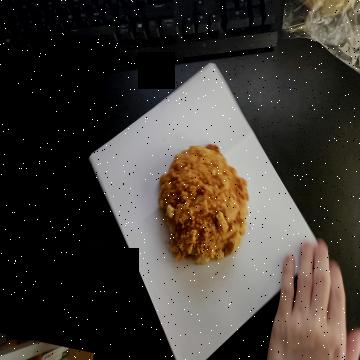soboru_bread: (157, 142, 253, 265)
